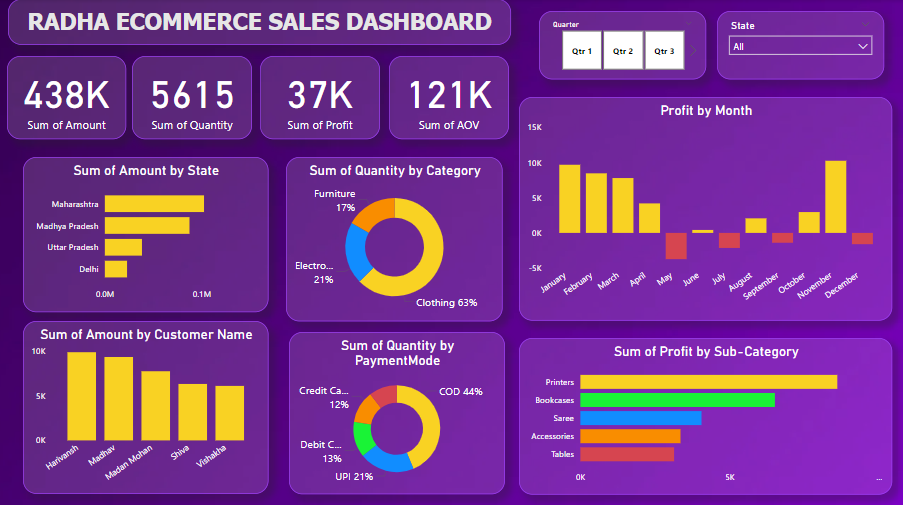

The dashboard page shown, as its layout file describes it:
{"tool":"powerbi","page":{"name":"Page 1","canvas":[1280,720],"ordinal":0},"visuals":[{"type":"textbox","box":[11.3,0,712.9,65.2],"z":0},{"type":"columnChart","title":" Profit by Month","fields":{"Y":["Details.Profit"],"Category":["Orders.Order Date.Variation.Date Hierarchy.Month"]},"box":[735.7,139.4,529.1,317.5],"z":1000},{"type":"barChart","fields":{"Category":["Details.Sub-Category"],"Y":["Details.Profit"]},"box":[735.7,480.4,529.1,221.7],"z":2000},{"type":"donutChart","fields":{"Category":["Details.Category"],"Y":["Details.Quantity"]},"box":[404.8,223.4,307.4,233.5],"z":3000},{"type":"donutChart","fields":{"Y":["Details.Quantity"],"Category":["Details.PaymentMode"]},"box":[409.9,472,305.7,230.1],"z":4000},{"type":"card","fields":{"Values":["Details.Amount"]},"box":[9.9,80.8,168.7,117.6],"z":5000},{"type":"card","fields":{"Values":["Details.AOV"]},"box":[551.3,80.8,170.1,117.6],"z":6000},{"type":"card","fields":{"Values":["Details.Profit"]},"box":[368.5,80.8,170.1,117.6],"z":7000},{"type":"card","fields":{"Values":["Details.Quantity"]},"box":[187.1,80.8,170.1,117.6],"z":8000},{"type":"barChart","fields":{"Y":["Details.Amount"],"Category":["Orders.State"]},"box":[31.9,223.4,347.7,220.1],"z":9000},{"type":"columnChart","title":"Sum of Amount by Customer Name","fields":{"Category":["Orders.CustomerName"],"Y":["Details.Amount"]},"box":[31.9,456.9,347.7,245.2],"z":10000},{"type":"slicer","fields":{"Values":["Orders.State"]},"box":[1016.3,16.8,236.9,97.4],"z":11001},{"type":"slicer","fields":{"Values":["Orders.Order Date.Variation.Date Hierarchy.Quarter"]},"box":[764.3,16.8,236.9,97.4],"z":11002}]}

Visuals, with their boxes in screenshot pixels (x1, y1, x2, y2), scaled from the page's 1280x720 canvas onto the 903x505 screenshot:
textbox: left=8, top=0, right=511, bottom=46
" Profit by Month" columnChart: left=519, top=98, right=892, bottom=320
barChart - Details.Sub-Category x Details.Profit: left=519, top=337, right=892, bottom=492
donutChart - Details.Category x Details.Quantity: left=286, top=157, right=502, bottom=320
donutChart - Details.Quantity x Details.PaymentMode: left=289, top=331, right=505, bottom=492
card - Details.Amount: left=7, top=57, right=126, bottom=139
card - Details.AOV: left=389, top=57, right=509, bottom=139
card - Details.Profit: left=260, top=57, right=380, bottom=139
card - Details.Quantity: left=132, top=57, right=252, bottom=139
barChart - Details.Amount x Orders.State: left=23, top=157, right=268, bottom=311
"Sum of Amount by Customer Name" columnChart: left=23, top=320, right=268, bottom=492
slicer - Orders.State: left=717, top=12, right=884, bottom=80
slicer - Orders.Order Date.Variation.Date Hierarchy.Quarter: left=539, top=12, right=706, bottom=80
